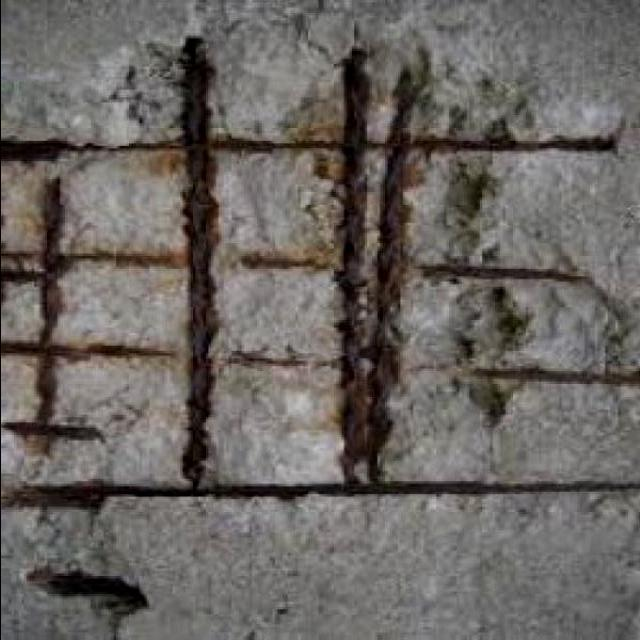crack: (12, 62, 636, 546), (179, 40, 223, 487), (10, 479, 627, 503)
